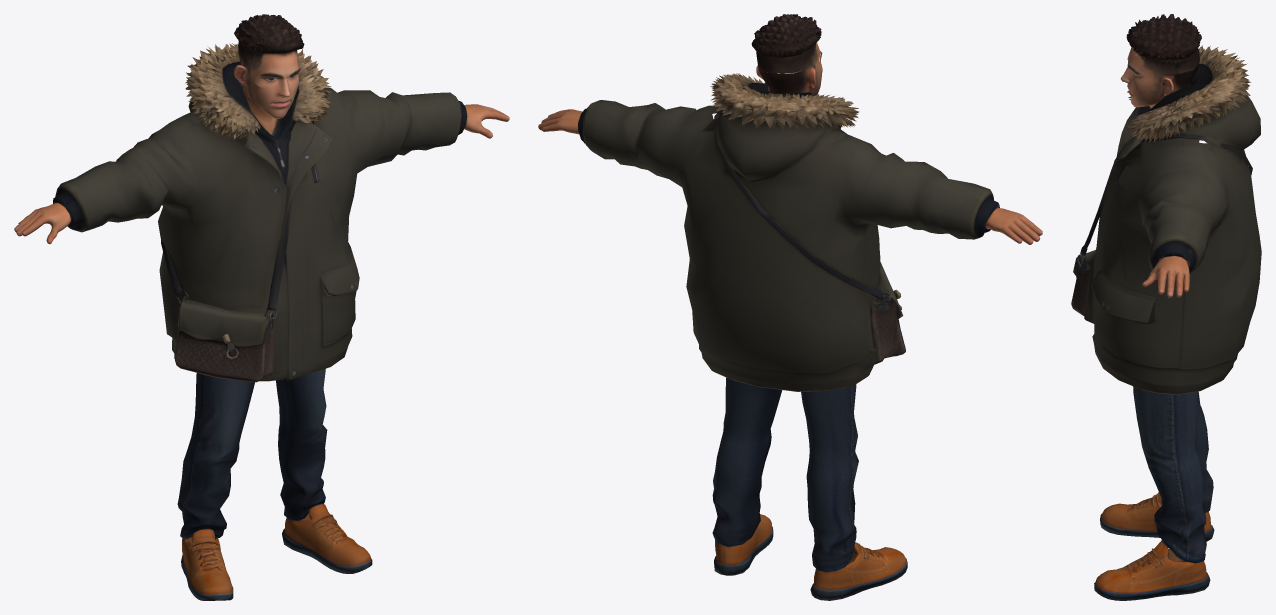
File: fashionable man 3d model.glb
3 renders of one model, left to right at view 1: azimuth 30°, elevation 25°; view 2: azimuth 150°, elevation 25°; view 3: azimuth 270°, elevation 25°, orthographic.
Parts seen in each view (by area): view 1: tripo_5c1dfeeb_98d3_4eb2_8c3d_3a039518f598; view 2: tripo_5c1dfeeb_98d3_4eb2_8c3d_3a039518f598; view 3: tripo_5c1dfeeb_98d3_4eb2_8c3d_3a039518f598.
Boxes of the visible parts, x1,y1,x2,y2 form: tripo_5c1dfeeb_98d3_4eb2_8c3d_3a039518f598: (14,14,509,600); tripo_5c1dfeeb_98d3_4eb2_8c3d_3a039518f598: (538,14,1042,600); tripo_5c1dfeeb_98d3_4eb2_8c3d_3a039518f598: (1071,14,1261,600).
Bounding box in the file's own units: 0.9448 × 0.9995 × 0.3169.
1 material, 1 textured.
